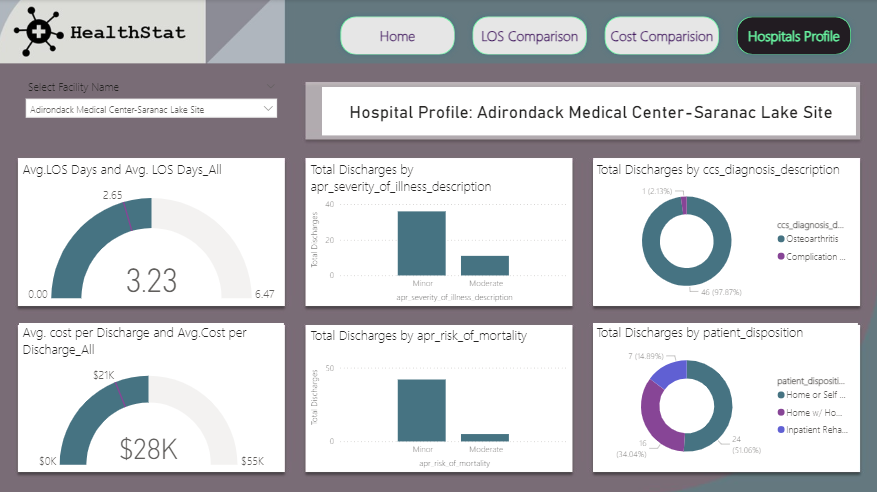

What the dashboard file says about the page in this screenshot:
{"tool":"powerbi","page":{"name":"Hospitals Profile","canvas":[1280,720],"ordinal":3},"visuals":[{"type":"gauge","fields":{"Y":["__ Measures.Avg.LOS Days"],"TargetValue":["__ Measures.Avg. LOS Days_All"]},"box":[31.7,233.3,383.3,210],"z":0},{"type":"gauge","fields":{"Y":["__ Measures.Avg. cost per Discharge"],"TargetValue":["__ Measures.Avg.Cost per Discharge_All"]},"box":[31.7,468.3,383.3,215],"z":1},{"type":"columnChart","fields":{"Y":["__ Measures.Total Discharges"],"Category":["hospital_discharges.apr_severity_of_illness_description"]},"box":[448.3,233.3,383.3,210],"z":2},{"type":"columnChart","fields":{"Y":["__ Measures.Total Discharges"],"Category":["hospital_discharges.apr_risk_of_mortality"]},"box":[448.3,473.3,383.3,210],"z":3},{"type":"donutChart","fields":{"Y":["__ Measures.Total Discharges"],"Category":["hospital_discharges.ccs_diagnosis_description"]},"box":[861.7,233.3,383.3,210],"z":4},{"type":"donutChart","fields":{"Y":["__ Measures.Total Discharges"],"Category":["hospital_discharges.patient_disposition"]},"box":[861.7,468.3,383.3,215],"z":5},{"type":"slicer","fields":{"Values":["hospital_discharges.facility_name"]},"box":[31.7,111.7,383.3,100],"z":6},{"type":"card","fields":{"Values":["__ Measures.Title Selected Facility"]},"box":[470,127,772,70],"z":7},{"type":"pageNavigator","box":[488.3,16.7,756.7,71.7],"z":8}]}

Visuals, with their boxes in screenshot pixels (x1, y1, x2, y2), scaled from the page's 1280x720 canvas onto the 877x492 screenshot:
gauge - __ Measures.Avg.LOS Days x __ Measures.Avg. LOS Days_All: crop(22, 159, 284, 303)
gauge - __ Measures.Avg. cost per Discharge x __ Measures.Avg.Cost per Discharge_All: crop(22, 320, 284, 467)
columnChart - __ Measures.Total Discharges x hospital_discharges.apr_severity_of_illness_description: crop(307, 159, 570, 303)
columnChart - __ Measures.Total Discharges x hospital_discharges.apr_risk_of_mortality: crop(307, 323, 570, 467)
donutChart - __ Measures.Total Discharges x hospital_discharges.ccs_diagnosis_description: crop(590, 159, 853, 303)
donutChart - __ Measures.Total Discharges x hospital_discharges.patient_disposition: crop(590, 320, 853, 467)
slicer - hospital_discharges.facility_name: crop(22, 76, 284, 145)
card - __ Measures.Title Selected Facility: crop(322, 87, 851, 135)
pageNavigator: crop(335, 11, 853, 60)
